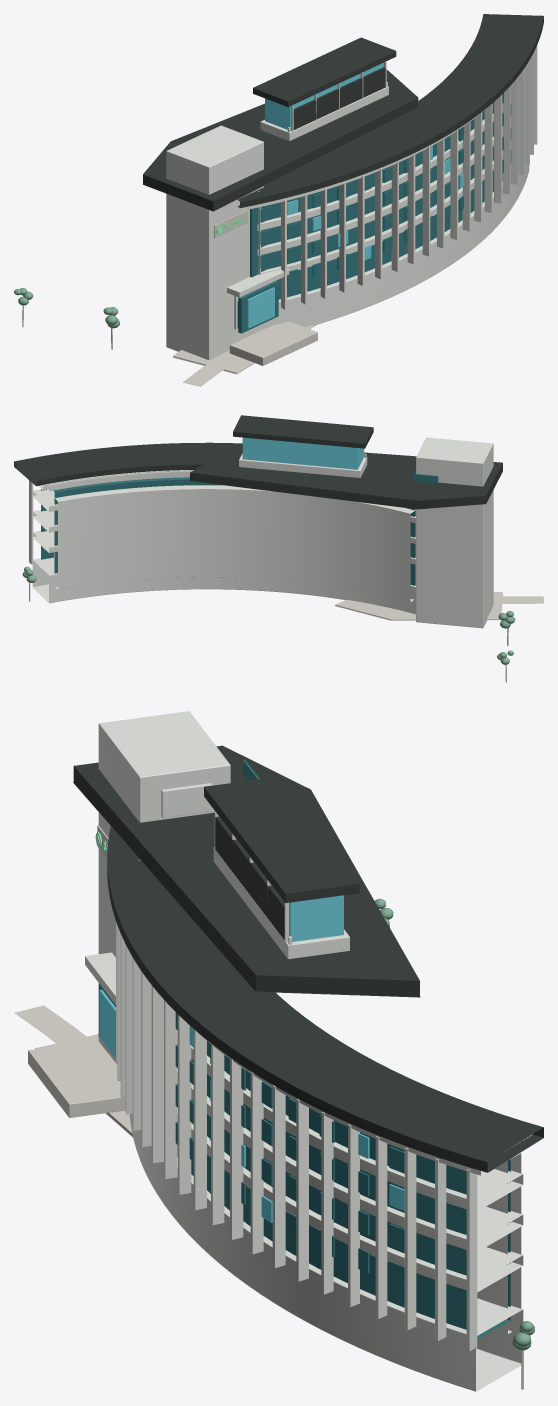
The model's file is sodra.glb.
The picture shows the model from 3 angles, top to bottom: view 1: azimuth 30°, elevation 25°; view 2: azimuth 150°, elevation 25°; view 3: azimuth 270°, elevation 25°; orthographic projection. The views are drawn at different scales.
Parts seen in each view (by area): view 1: LM_Sodra_CentralCore_PaleConcreteMass, LM_Sodra_RoofSystem_DarkOverhangingCurveRoof, LM_Sodra_RoofSystem_AsymmetricCoreCanopy, LM_Sodra_MainCurvedWing_WhiteBaseBand, LM_Sodra_MainCurvedWing_DarkCurtainWall, LM_Sodra_UpperPavilion_DarkThinRoof, LM_Sodra_Entrance_Landing, LM_Sodra_UpperPavilion_DarkInteriorStrip, LM_Sodra_MainCurvedWing_WhiteFloor02Band, LM_Sodra_MainCurvedWing_WhiteFloor03Band, LM_Sodra_UpperPavilion_ConnectedBase, LM_Sodra_MainCurvedWing_WhiteFloor01Band (+27 smaller); view 2: LM_Sodra_MainCurvedWing_BackConcreteSpandrel, LM_Sodra_CentralCore_PaleConcreteMass, LM_Sodra_RoofSystem_AsymmetricCoreCanopy, LM_Sodra_RoofSystem_DarkOverhangingCurveRoof, LM_Sodra_MainCurvedWing_WhiteBaseBand, LM_Sodra_UpperPavilion_DarkThinRoof, LM_Sodra_UpperPavilion_GlassVolume, LM_Sodra_MainCurvedWing_DarkCurtainWall, LM_Sodra_UpperPavilion_ConnectedBase, LM_Sodra_Site_IntegratedPavedForecourt, LM_Sodra_MainCurvedWing_WhiteRoofEdgeBand, LM_Sodra_MainCurvedWing_WhiteFloor03Band (+5 smaller); view 3: LM_Sodra_RoofSystem_DarkOverhangingCurveRoof, LM_Sodra_RoofSystem_AsymmetricCoreCanopy, LM_Sodra_MainCurvedWing_WhiteBaseBand, LM_Sodra_MainCurvedWing_DarkCurtainWall, LM_Sodra_CentralCore_PaleConcreteMass, LM_Sodra_UpperPavilion_DarkThinRoof, LM_Sodra_Entrance_Landing, LM_Sodra_MainCurvedWing_WhiteFloor02Band, LM_Sodra_MainCurvedWing_WhiteFloor01Band, LM_Sodra_MainCurvedWing_WhiteFloor03Band, LM_Sodra_UpperPavilion_DarkInteriorStrip, LM_Sodra_MainCurvedWing_BackConcreteSpandrel (+26 smaller).
Part boxes in pixels (<box>): LM_Sodra_CentralCore_PaleConcreteMass: <box>166,125,263,360</box>; LM_Sodra_RoofSystem_DarkOverhangingCurveRoof: <box>237,14,543,207</box>; LM_Sodra_RoofSystem_AsymmetricCoreCanopy: <box>142,69,418,211</box>; LM_Sodra_MainCurvedWing_WhiteBaseBand: <box>251,164,529,334</box>; LM_Sodra_MainCurvedWing_DarkCurtainWall: <box>267,110,502,299</box>; LM_Sodra_UpperPavilion_DarkThinRoof: <box>253,37,396,106</box>; LM_Sodra_Entrance_Landing: <box>229,321,317,365</box>; LM_Sodra_UpperPavilion_DarkInteriorStrip: <box>293,67,385,129</box>; LM_Sodra_MainCurvedWing_WhiteFloor02Band: <box>257,127,502,255</box>; LM_Sodra_MainCurvedWing_WhiteFloor03Band: <box>257,104,502,230</box>; LM_Sodra_UpperPavilion_ConnectedBase: <box>260,86,388,140</box>; LM_Sodra_MainCurvedWing_WhiteFloor01Band: <box>257,151,502,274</box>; LM_Sodra_MainCurvedWing_BackConcreteSpandrel: <box>54,485,415,602</box>; LM_Sodra_CentralCore_PaleConcreteMass: <box>416,437,493,628</box>; LM_Sodra_RoofSystem_AsymmetricCoreCanopy: <box>190,443,502,509</box>; LM_Sodra_RoofSystem_DarkOverhangingCurveRoof: <box>14,442,242,486</box>; LM_Sodra_MainCurvedWing_WhiteBaseBand: <box>32,557,415,614</box>; LM_Sodra_UpperPavilion_DarkThinRoof: <box>233,415,373,448</box>; LM_Sodra_UpperPavilion_GlassVolume: <box>242,437,363,469</box>; LM_Sodra_MainCurvedWing_DarkCurtainWall: <box>41,477,415,585</box>; LM_Sodra_UpperPavilion_ConnectedBase: <box>239,453,367,477</box>; LM_Sodra_Site_IntegratedPavedForecourt: <box>335,592,503,620</box>; LM_Sodra_MainCurvedWing_WhiteRoofEdgeBand: <box>47,471,191,491</box>; LM_Sodra_MainCurvedWing_WhiteFloor03Band: <box>32,489,415,523</box>; LM_Sodra_RoofSystem_DarkOverhangingCurveRoof: <box>107,826,543,1172</box>; LM_Sodra_RoofSystem_AsymmetricCoreCanopy: <box>73,745,420,997</box>; LM_Sodra_MainCurvedWing_WhiteBaseBand: <box>129,1114,523,1391</box>; LM_Sodra_MainCurvedWing_DarkCurtainWall: <box>177,1041,510,1339</box>; LM_Sodra_CentralCore_PaleConcreteMass: <box>98,711,230,1064</box>; LM_Sodra_UpperPavilion_DarkThinRoof: <box>204,776,359,902</box>; LM_Sodra_Entrance_Landing: <box>28,1041,125,1117</box>; LM_Sodra_MainCurvedWing_WhiteFloor02Band: <box>177,1068,523,1251</box>; LM_Sodra_MainCurvedWing_WhiteFloor01Band: <box>177,1108,523,1292</box>; LM_Sodra_MainCurvedWing_WhiteFloor03Band: <box>177,1031,523,1211</box>; LM_Sodra_UpperPavilion_DarkInteriorStrip: <box>215,816,284,939</box>; LM_Sodra_MainCurvedWing_BackConcreteSpandrel: <box>477,1153,521,1333</box>.
Size of the model in its own units: 2.47 by 0.8954 by 1.22.
